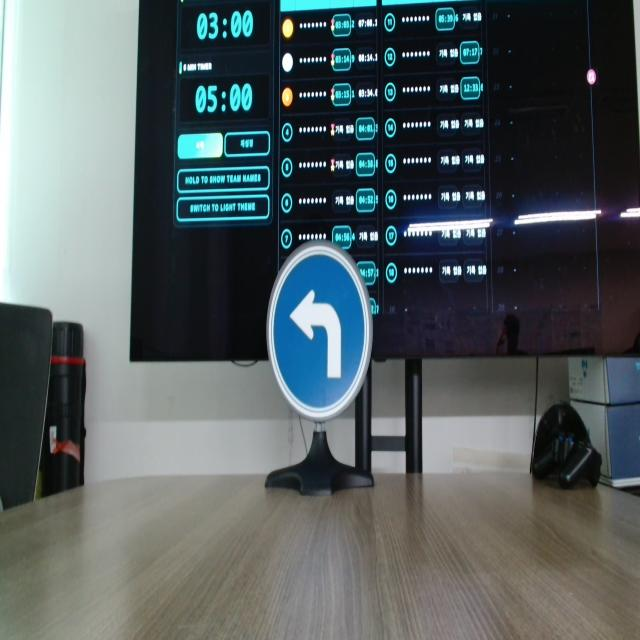left_direction: (263, 228, 388, 425)
